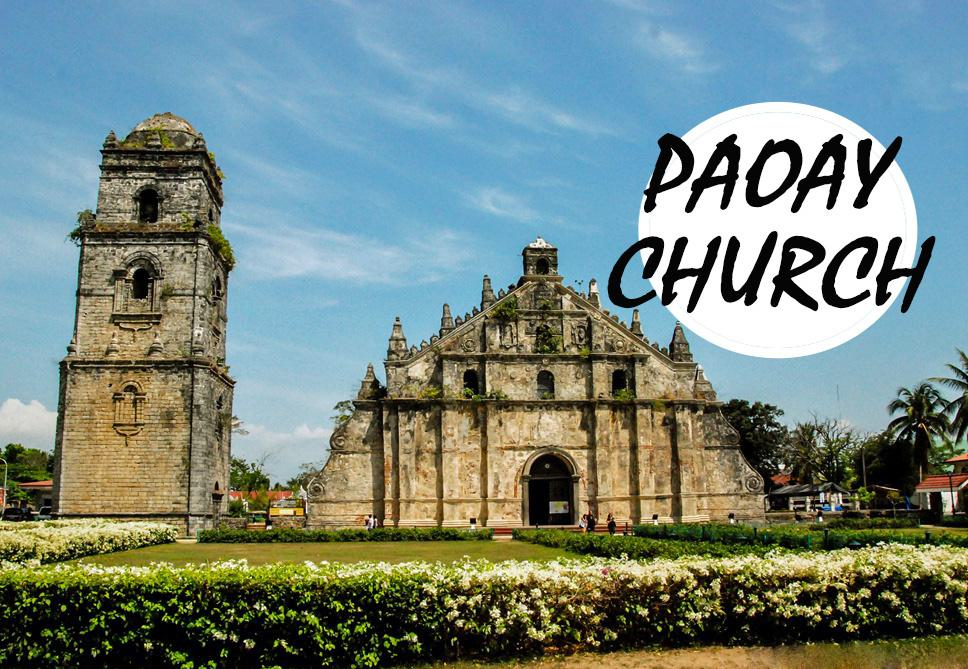Environmental Damage: (408, 379, 502, 406), (196, 224, 242, 268), (492, 294, 525, 326), (606, 384, 637, 406)
Paoay Church: (35, 113, 777, 529)
